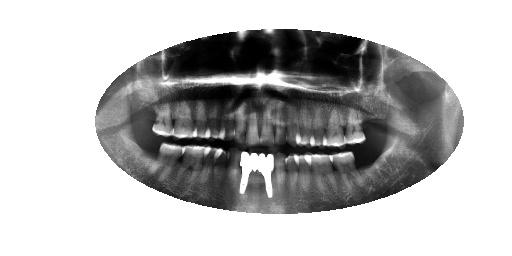i10loss: (228, 148, 242, 190)
i11decay: (215, 146, 228, 190)
i12decay: (205, 145, 218, 185)
i13healthy: (179, 143, 206, 186)
i14healthy: (153, 142, 184, 180)
i15loss: (137, 143, 160, 176)
i16loss: (120, 131, 142, 163)
i1loss: (374, 144, 391, 185)
i2loss: (355, 148, 375, 192)
i3healthy: (332, 150, 362, 196)
i4healthy: (311, 151, 336, 202)
i5healthy: (298, 150, 313, 200)
i6healthy: (285, 151, 301, 199)
i7decay: (276, 152, 287, 200)
i8healthy: (256, 151, 275, 200)
i9healthy: (239, 151, 258, 197)
u10healthy: (245, 108, 260, 148), (235, 102, 248, 143)
u11decay: (221, 101, 236, 140)
u12decay: (208, 99, 220, 139)
u13healthy: (193, 94, 210, 139)
u14healthy: (172, 100, 195, 141)
u15healthy: (151, 101, 173, 138)
u16loss: (132, 99, 155, 132)
u1loss: (365, 106, 385, 145)
u2healthy: (346, 107, 366, 146)
u3healthy: (323, 107, 347, 148)
u4decay: (309, 106, 328, 148)
u5decay: (296, 112, 313, 148)
u6decay: (286, 115, 299, 148)
u7decay: (274, 116, 287, 149)
u8healthy: (260, 109, 275, 146)
